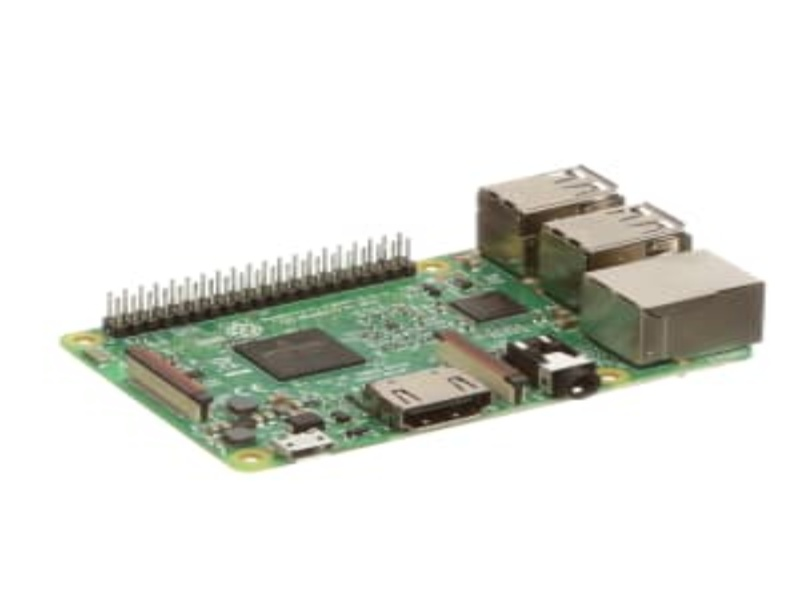raspberrypi: (74, 152, 775, 426)
